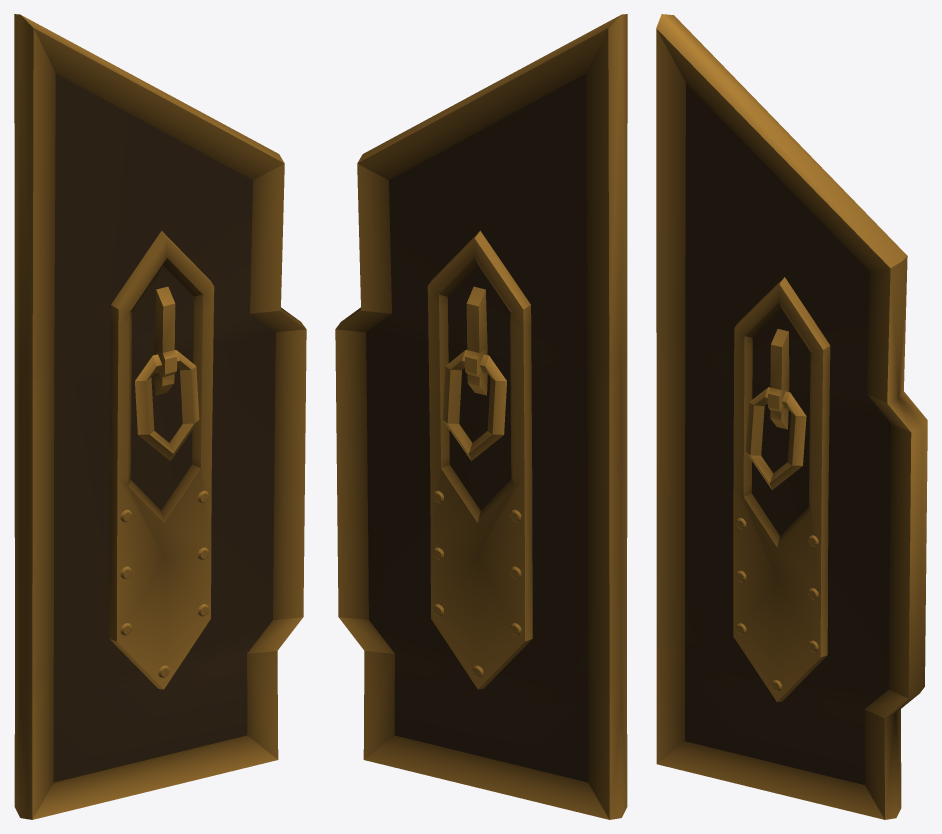
File: obj_metalDoor_left_LOW.FBX
The picture shows the model from 3 angles, left to right: view 1: azimuth 30°, elevation 25°; view 2: azimuth 150°, elevation 25°; view 3: azimuth 330°, elevation 25°; orthographic projection. The views are drawn at different scales.
Parts seen in each view (by area): view 1: obj_metalDoor_left_LOW; view 2: obj_metalDoor_left_LOW; view 3: obj_metalDoor_left_LOW.
Boxes of the visible parts, bbox=[...] form: obj_metalDoor_left_LOW: bbox=[14, 14, 306, 819]; obj_metalDoor_left_LOW: bbox=[335, 14, 627, 819]; obj_metalDoor_left_LOW: bbox=[656, 14, 927, 819].
Size of the model in its own units: 1.68 by 4.59 by 0.3816.
